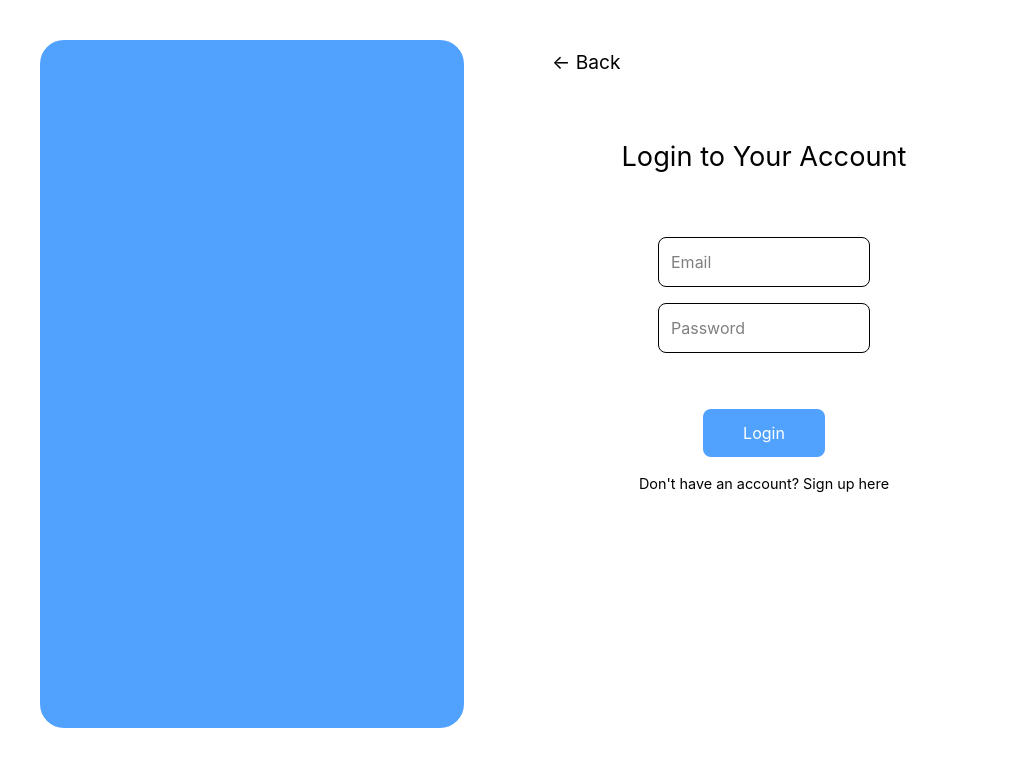
Scenario: Login page › shows validation messages for blank submission
Click the button "Login". click: coordinates (764, 433)
box: x1=703 y1=409 x2=825 y2=457
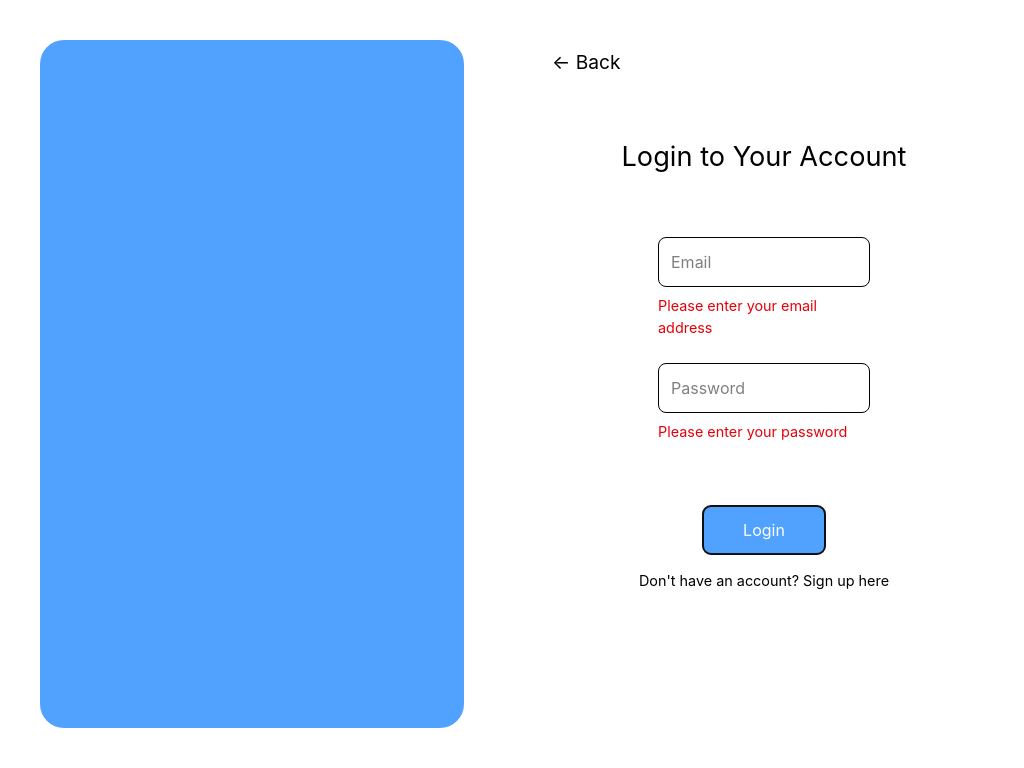
expect the text "Please enter your email address" is shown: met, box x1=658 y1=297 x2=817 y2=336
expect the text "Please enter your password" is shown: met, box x1=658 y1=421 x2=870 y2=442
